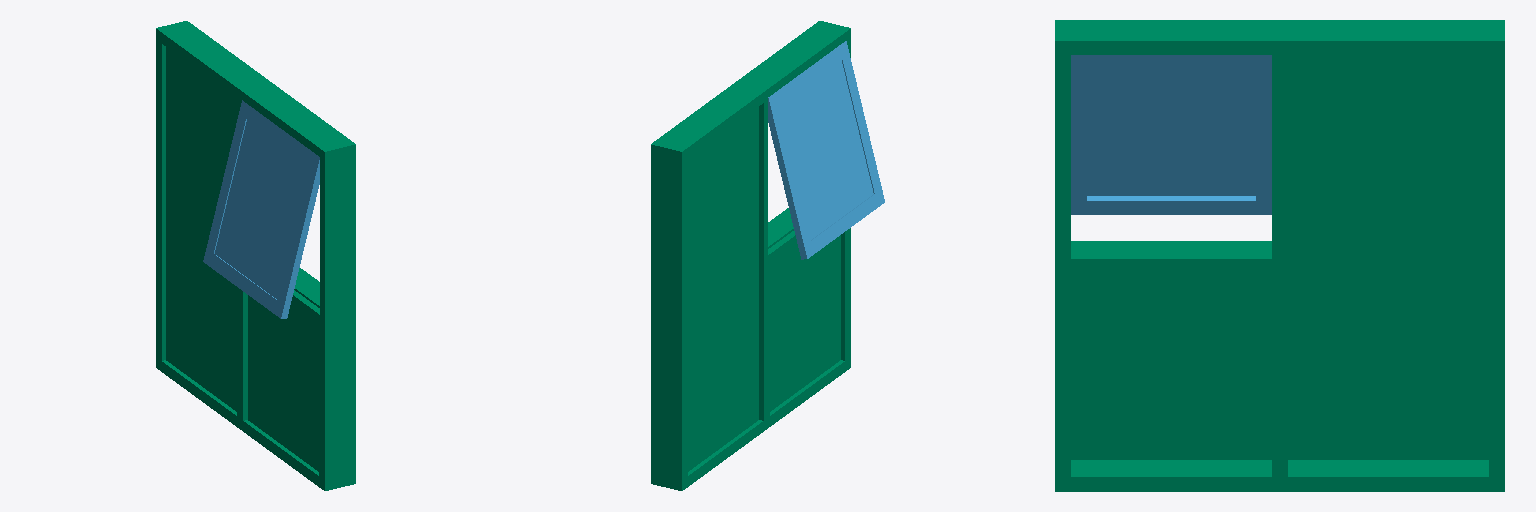
The robot description file, URDF, robot "partnet_5d9e11c1-aa7c-4b49-a605-94a8cc942056-0":
<?xml version="1.0" ?>
<robot name="partnet_5d9e11c1-aa7c-4b49-a605-94a8cc942056-0">
	<link name="base"/>
	<link name="link_0">
		<visual name="rotation-1">
			<origin xyz="-0.6509340000000003 -0.6840086661857381 -0.004956622484359685"/>
			<geometry>
				<mesh filename="textured_objs/original-4.obj"/>
			</geometry>
		</visual>
		<visual name="rotation-1">
			<origin xyz="-0.6509340000000003 -0.6840086661857381 -0.004956622484359685"/>
			<geometry>
				<mesh filename="textured_objs/original-3.obj"/>
			</geometry>
		</visual>
		<visual name="rotation-1">
			<origin xyz="-0.6509340000000003 -0.6840086661857381 -0.004956622484359685"/>
			<geometry>
				<mesh filename="textured_objs/original-2.obj"/>
			</geometry>
		</visual>
		<collision>
			<origin xyz="-0.6509340000000003 -0.6840086661857381 -0.004956622484359685"/>
			<geometry>
				<mesh filename="textured_objs/original-4.obj"/>
			</geometry>
		</collision>
		<collision>
			<origin xyz="-0.6509340000000003 -0.6840086661857381 -0.004956622484359685"/>
			<geometry>
				<mesh filename="textured_objs/original-3.obj"/>
			</geometry>
		</collision>
		<collision>
			<origin xyz="-0.6509340000000003 -0.6840086661857381 -0.004956622484359685"/>
			<geometry>
				<mesh filename="textured_objs/original-2.obj"/>
			</geometry>
		</collision>
	</link>
	<joint name="joint_0" type="revolute">
		<origin xyz="0.6509340000000003 0.6840086661857381 0.004956622484359685"/>
		<axis xyz="-1 0 0"/>
		<child link="link_0"/>
		<parent link="link_1"/>
		<limit lower="-0.2764601535159018" upper="1.2943361732789942"/>
	</joint>
	<link name="link_1">
		<visual name="base_body-2">
			<origin xyz="0 0 0"/>
			<geometry>
				<mesh filename="textured_objs/original-8.obj"/>
			</geometry>
		</visual>
		<visual name="base_body-2">
			<origin xyz="0 0 0"/>
			<geometry>
				<mesh filename="textured_objs/original-9.obj"/>
			</geometry>
		</visual>
		<visual name="base_body-2">
			<origin xyz="0 0 0"/>
			<geometry>
				<mesh filename="textured_objs/original-5.obj"/>
			</geometry>
		</visual>
		<visual name="base_body-2">
			<origin xyz="0 0 0"/>
			<geometry>
				<mesh filename="textured_objs/original-6.obj"/>
			</geometry>
		</visual>
		<visual name="base_body-2">
			<origin xyz="0 0 0"/>
			<geometry>
				<mesh filename="textured_objs/original-11.obj"/>
			</geometry>
		</visual>
		<visual name="base_body-2">
			<origin xyz="0 0 0"/>
			<geometry>
				<mesh filename="textured_objs/original-12.obj"/>
			</geometry>
		</visual>
		<visual name="base_body-2">
			<origin xyz="0 0 0"/>
			<geometry>
				<mesh filename="textured_objs/original-10.obj"/>
			</geometry>
		</visual>
		<collision>
			<origin xyz="0 0 0"/>
			<geometry>
				<mesh filename="textured_objs/original-8.obj"/>
			</geometry>
		</collision>
		<collision>
			<origin xyz="0 0 0"/>
			<geometry>
				<mesh filename="textured_objs/original-9.obj"/>
			</geometry>
		</collision>
		<collision>
			<origin xyz="0 0 0"/>
			<geometry>
				<mesh filename="textured_objs/original-5.obj"/>
			</geometry>
		</collision>
		<collision>
			<origin xyz="0 0 0"/>
			<geometry>
				<mesh filename="textured_objs/original-6.obj"/>
			</geometry>
		</collision>
		<collision>
			<origin xyz="0 0 0"/>
			<geometry>
				<mesh filename="textured_objs/original-11.obj"/>
			</geometry>
		</collision>
		<collision>
			<origin xyz="0 0 0"/>
			<geometry>
				<mesh filename="textured_objs/original-12.obj"/>
			</geometry>
		</collision>
		<collision>
			<origin xyz="0 0 0"/>
			<geometry>
				<mesh filename="textured_objs/original-10.obj"/>
			</geometry>
		</collision>
	</link>
	<joint name="joint_1" type="fixed">
		<origin rpy="1.570796326794897 0 -1.570796326794897" xyz="0 0 0"/>
		<child link="link_1"/>
		<parent link="base"/>
	</joint>
</robot>

--- Facts derived from the render (not from the file) ---
The picture shows the robot from 3 angles, left to right: view 1: azimuth 30°, elevation 25°; view 2: azimuth 150°, elevation 25°; view 3: azimuth 270°, elevation 25°; orthographic projection.
Model partnet_5d9e11c1-aa7c-4b49-a605-94a8cc942056-0 with 3 links and 2 joints (1 revolute, 1 fixed), rooted at base, posed all joints at 0.
Visible links, largest first — view 1: link_1, link_0; view 2: link_1, link_0; view 3: link_1, link_0.
Boxes of the visible links, bbox=[...] form: link_1: bbox=[156, 21, 355, 490]; link_0: bbox=[203, 100, 319, 318]; link_1: bbox=[651, 21, 850, 490]; link_0: bbox=[768, 41, 884, 259]; link_1: bbox=[1055, 20, 1504, 491]; link_0: bbox=[1071, 55, 1271, 214].
Size in the robot's own frame: 0.3214 by 1.34 by 1.48 metres.
10 mesh visuals loaded from 10 distinct referenced files (10 OBJ).
